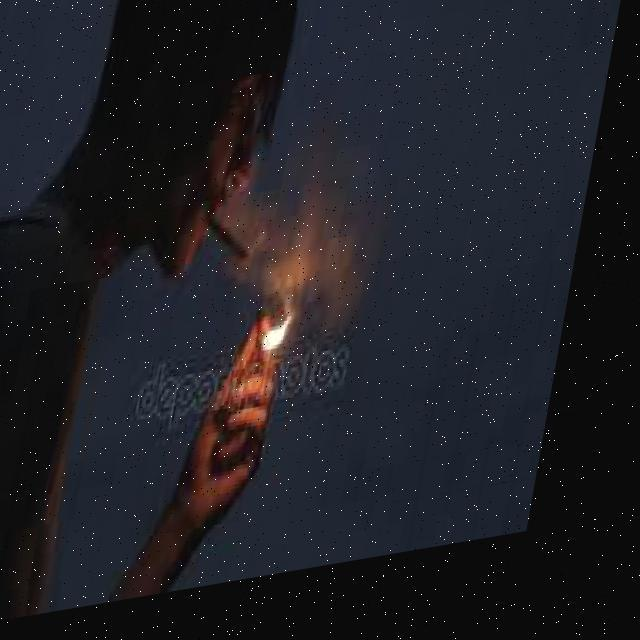Fire: (266, 310, 308, 368)
